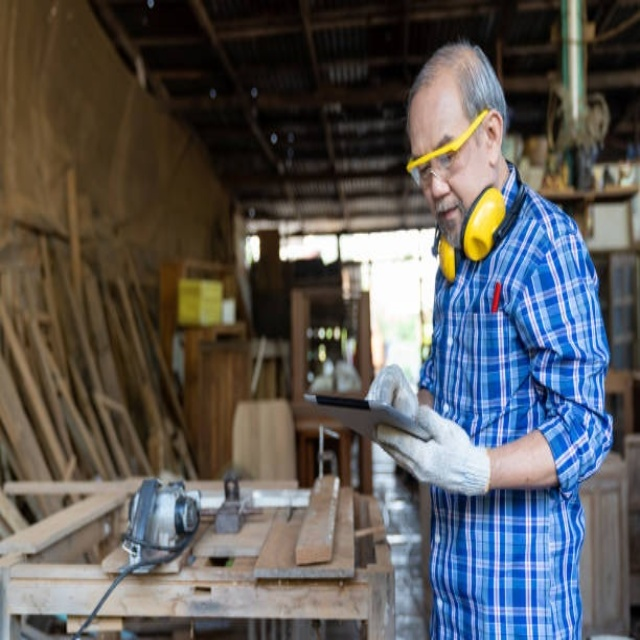Gafas: (406, 109, 491, 187)
Guantes: (376, 395, 493, 497), (366, 364, 421, 420)
Sin_mascara: (434, 193, 462, 242)
